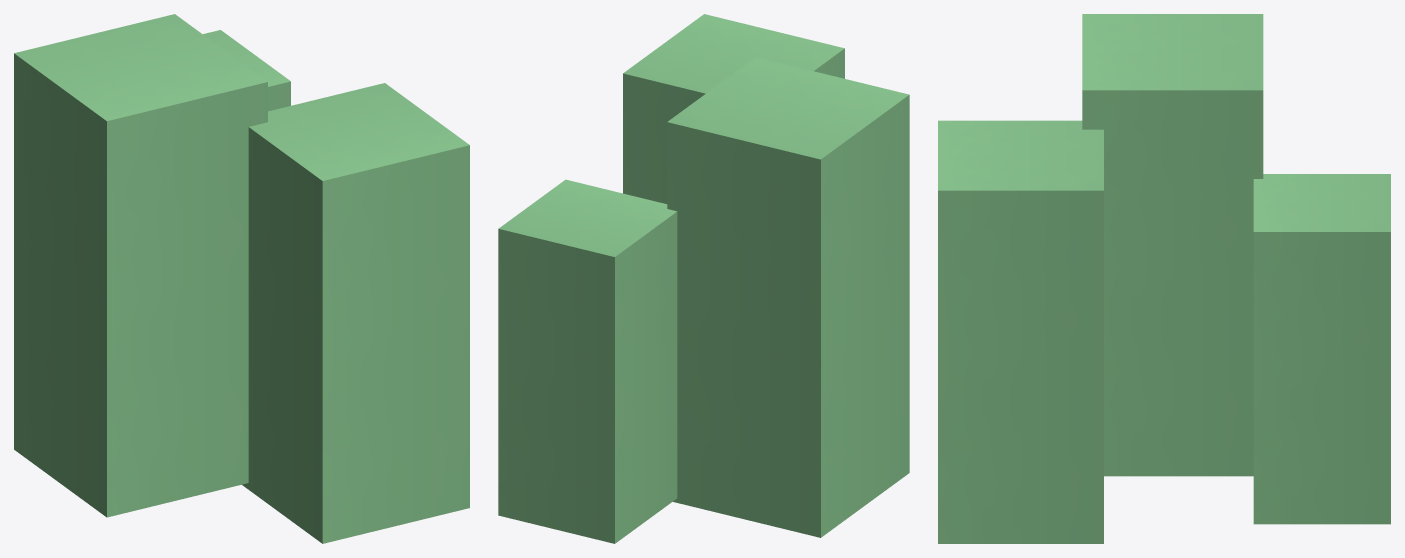
The model's file is Grass_1.fbx.
3 renders of one model, left to right at view 1: azimuth 30°, elevation 25°; view 2: azimuth 150°, elevation 25°; view 3: azimuth 270°, elevation 25°, orthographic. The views are drawn at different scales.
Visible parts, largest first — view 1: Grass_1; view 2: Grass_1; view 3: Grass_1.
Boxes of the visible parts, x1,y1,x2,y2 form: Grass_1: (14,14,469,543); Grass_1: (498,14,909,543); Grass_1: (938,14,1390,543).
Size of the model in its own units: 25.15 by 24.06 by 18.06.
